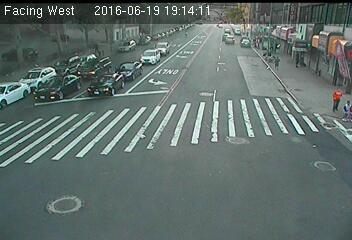neg: (45, 51, 64, 76), (131, 66, 146, 85), (8, 54, 22, 73), (228, 26, 242, 45), (212, 91, 226, 110), (178, 46, 191, 64), (99, 81, 110, 97), (206, 35, 217, 49)
pos: (322, 84, 342, 111), (339, 99, 351, 123), (292, 51, 305, 68), (273, 54, 284, 69), (91, 41, 101, 54)
